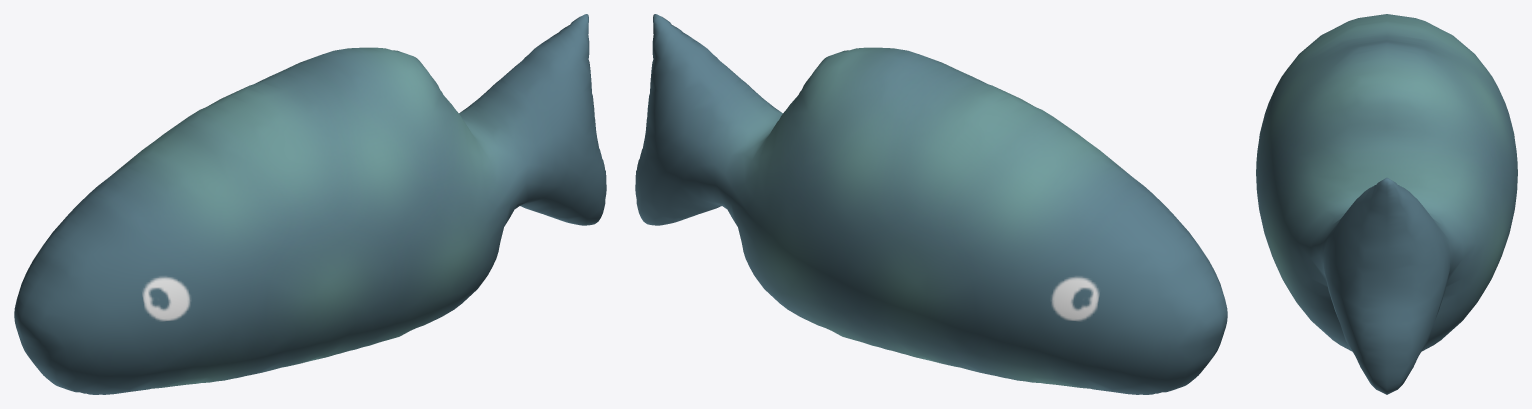
The model's file is asset.glb.
3 views of the same model, side by side, from view 1: azimuth 30°, elevation 25°; view 2: azimuth 150°, elevation 25°; view 3: azimuth 270°, elevation 25° (orthographic).
Bounding box in the file's own units: 3.78 × 1.74 × 1.46.
1 material, 1 textured.
